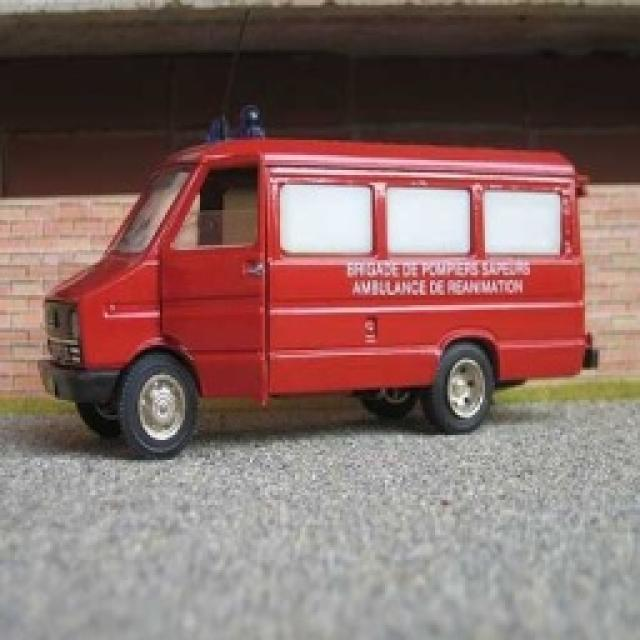emergency-vehicle: (42, 102, 596, 454)
